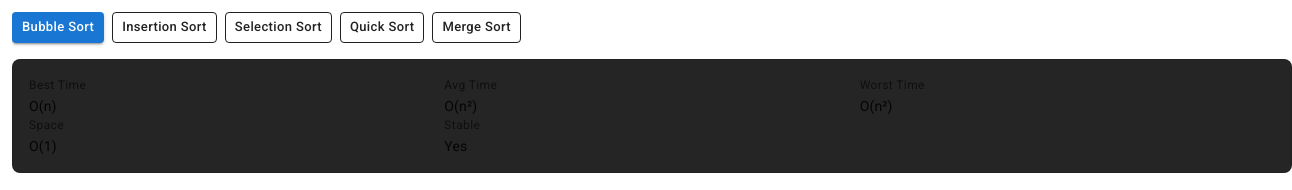
Scenario: no hard-coded values — data always comes from registry
Click the button "Merge Sort" at [477, 27], box top-left (432, 12), bottom-right (521, 43)
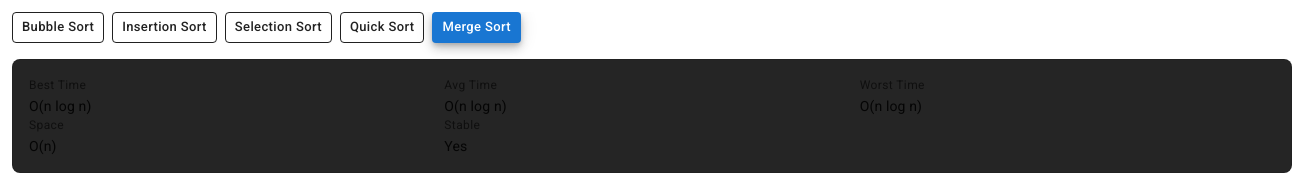
Expected: the text with test id "algo-stable" reads "Yes", top-left (444, 138), bottom-right (467, 154)
Expected: the text with test id "algo-avg-time" reads "O(n log n)", top-left (444, 98), bottom-right (507, 114)
